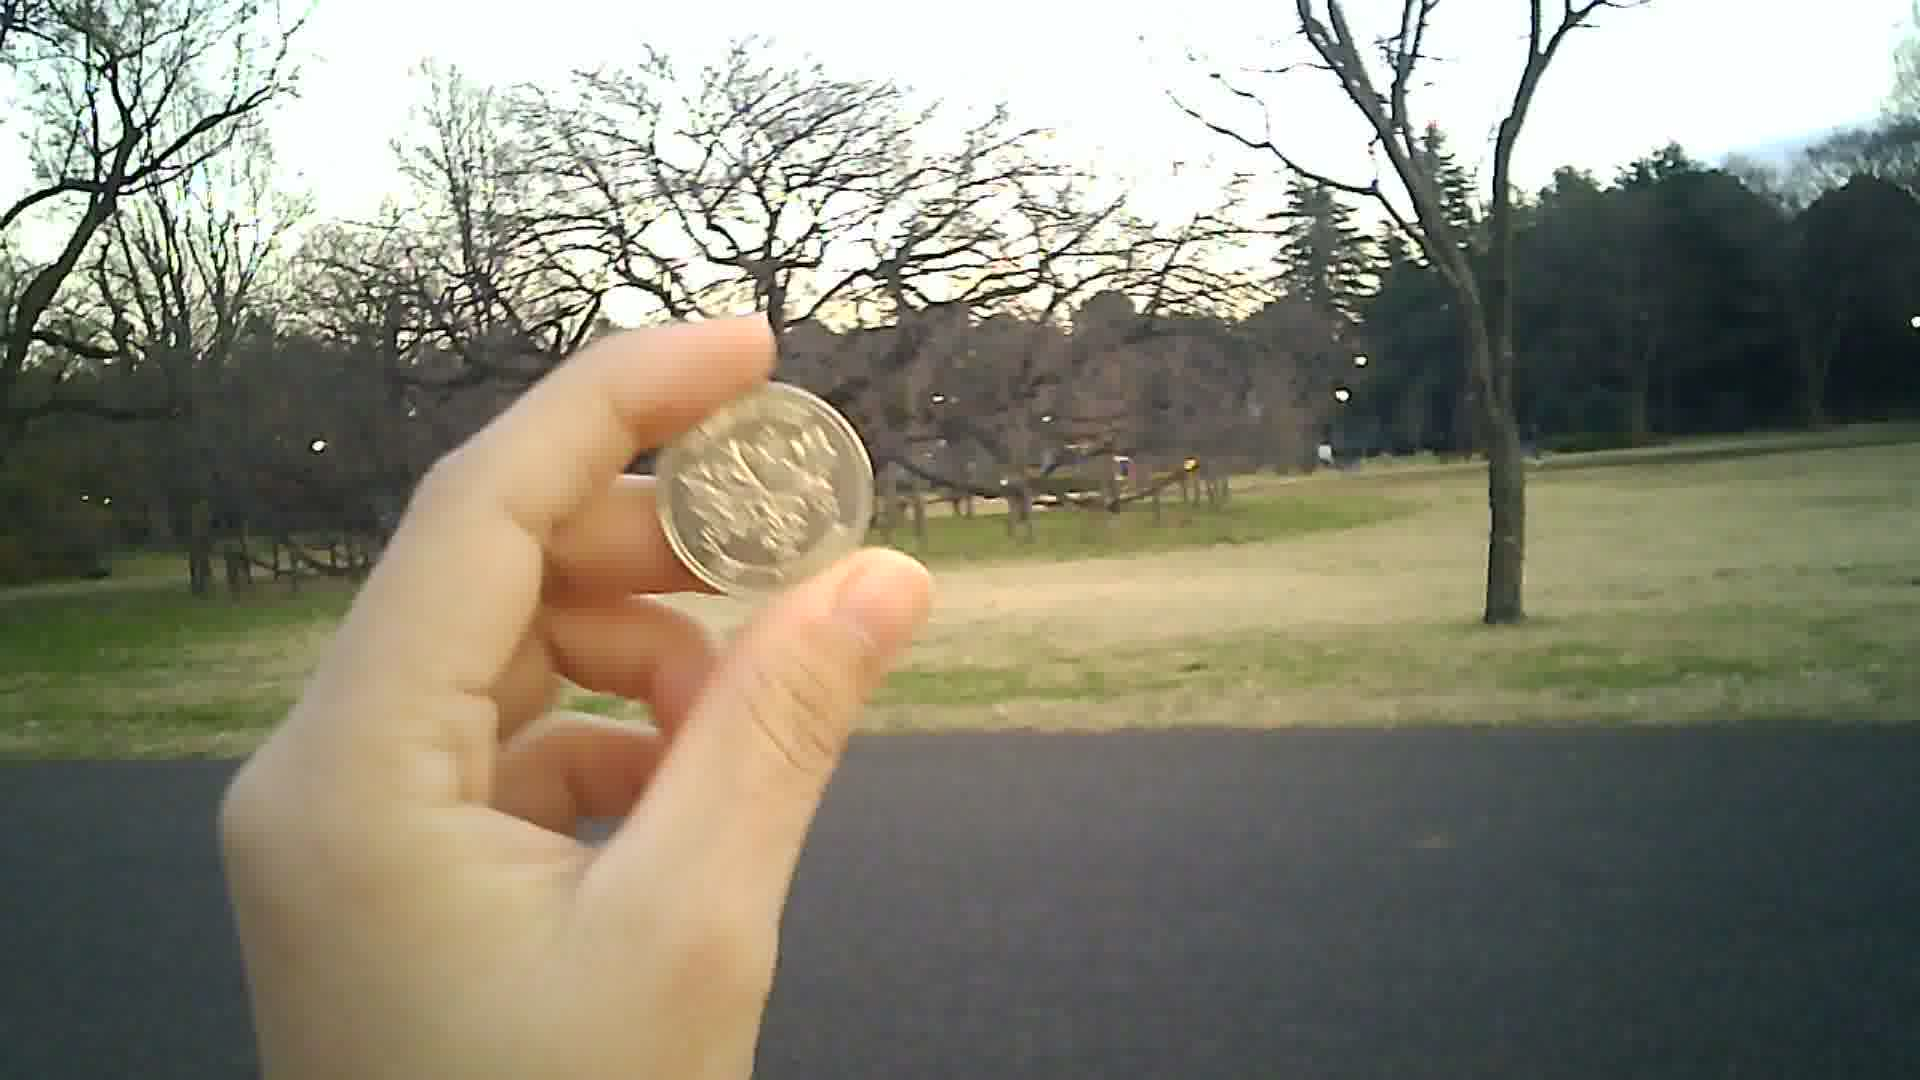500 Yen: (651, 382, 880, 592)
